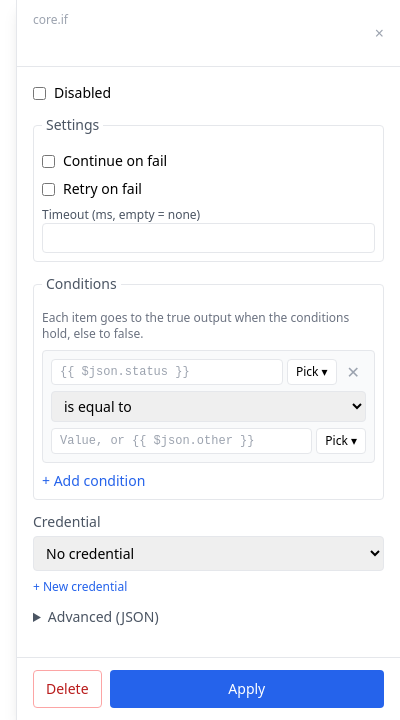
Test: NodeConfigPanel › If / Filter conditions › refuses a rule with nothing to check
Click the button "Apply" at (247, 689), box [110,670,384,708]
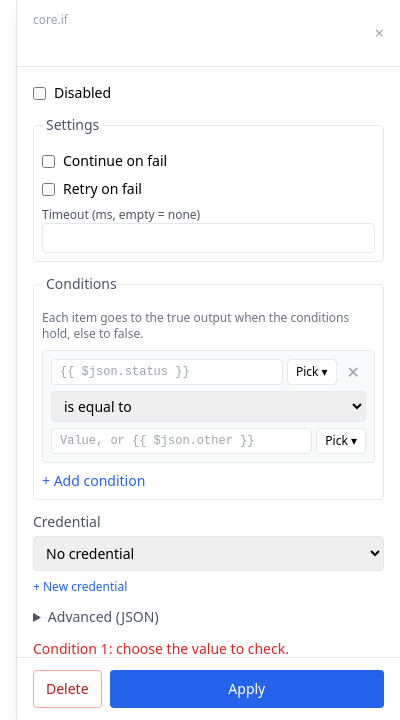
Now the text "Condition 1: choose the value to check." is shown, box [33,639,289,657]
